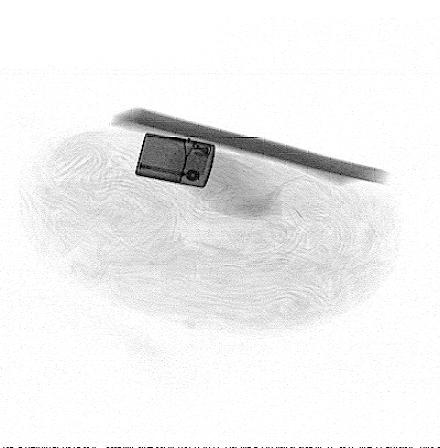Lighter: (135, 133, 215, 187)
